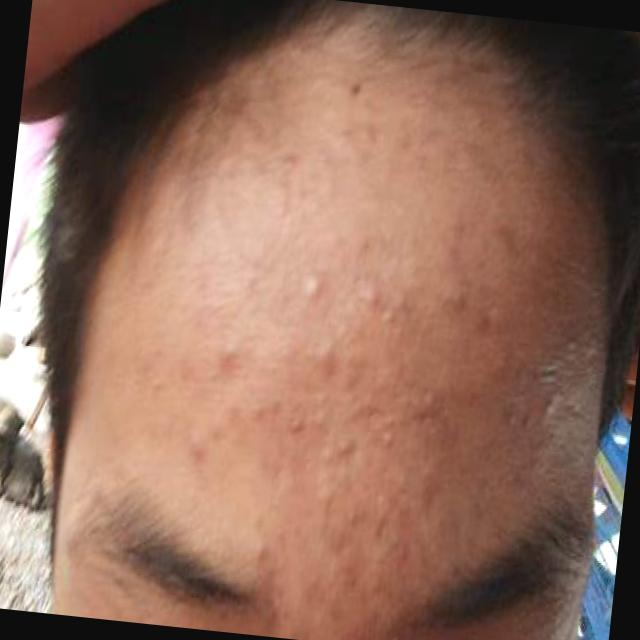fungal: (254, 246, 483, 571)
